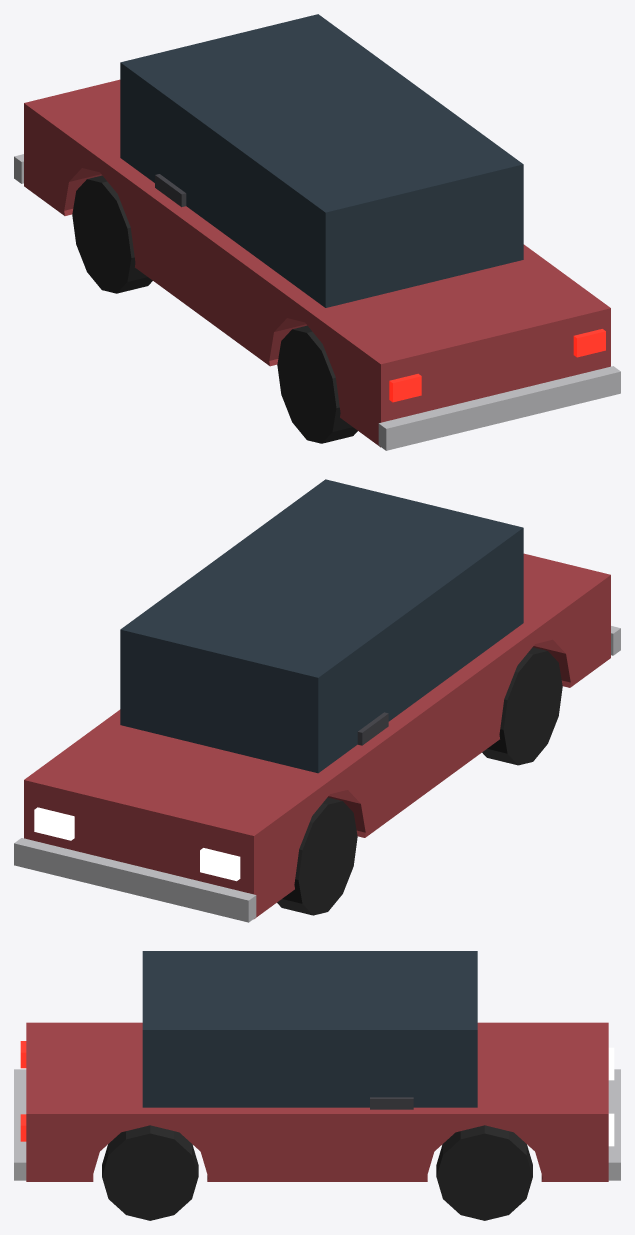
File: sedan.glb
The picture shows the model from 3 angles, top to bottom: view 1: azimuth 30°, elevation 25°; view 2: azimuth 150°, elevation 25°; view 3: azimuth 270°, elevation 25°; orthographic projection. The views are drawn at different scales.
Visible parts, largest first — view 1: cabin, body, bumper_r, WHEEL_RL, WHEEL_FL, taillamp, taillamp.001; view 2: cabin, body, bumper_f, WHEEL_FL, WHEEL_RL, headlamp.001, headlamp; view 3: body, cabin, WHEEL_FR, WHEEL_RR, bumper_r, bumper_f, dashboard.
Boxes of the visible parts, x1,y1,x2,y2 form: cabin: [120, 14, 523, 307]; body: [24, 79, 610, 447]; bumper_r: [378, 366, 620, 450]; WHEEL_RL: [277, 325, 357, 443]; WHEEL_FL: [72, 175, 152, 293]; taillamp: [389, 373, 421, 402]; taillamp.001: [573, 329, 605, 357]; cabin: [120, 479, 523, 773]; body: [24, 553, 610, 918]; bumper_f: [14, 838, 256, 922]; WHEEL_FL: [277, 797, 357, 915]; WHEEL_RL: [482, 647, 562, 765]; headlamp.001: [34, 807, 74, 840]; headlamp: [200, 848, 240, 881]; body: [26, 1022, 608, 1181]; cabin: [142, 951, 477, 1107]; WHEEL_FR: [436, 1125, 532, 1220]; WHEEL_RR: [102, 1125, 198, 1220]; bumper_r: [14, 1069, 26, 1180]; bumper_f: [608, 1069, 620, 1180]; dashboard: [370, 1097, 413, 1109].
Size of the model in its own units: 1.78 by 1.65 by 4.9.
